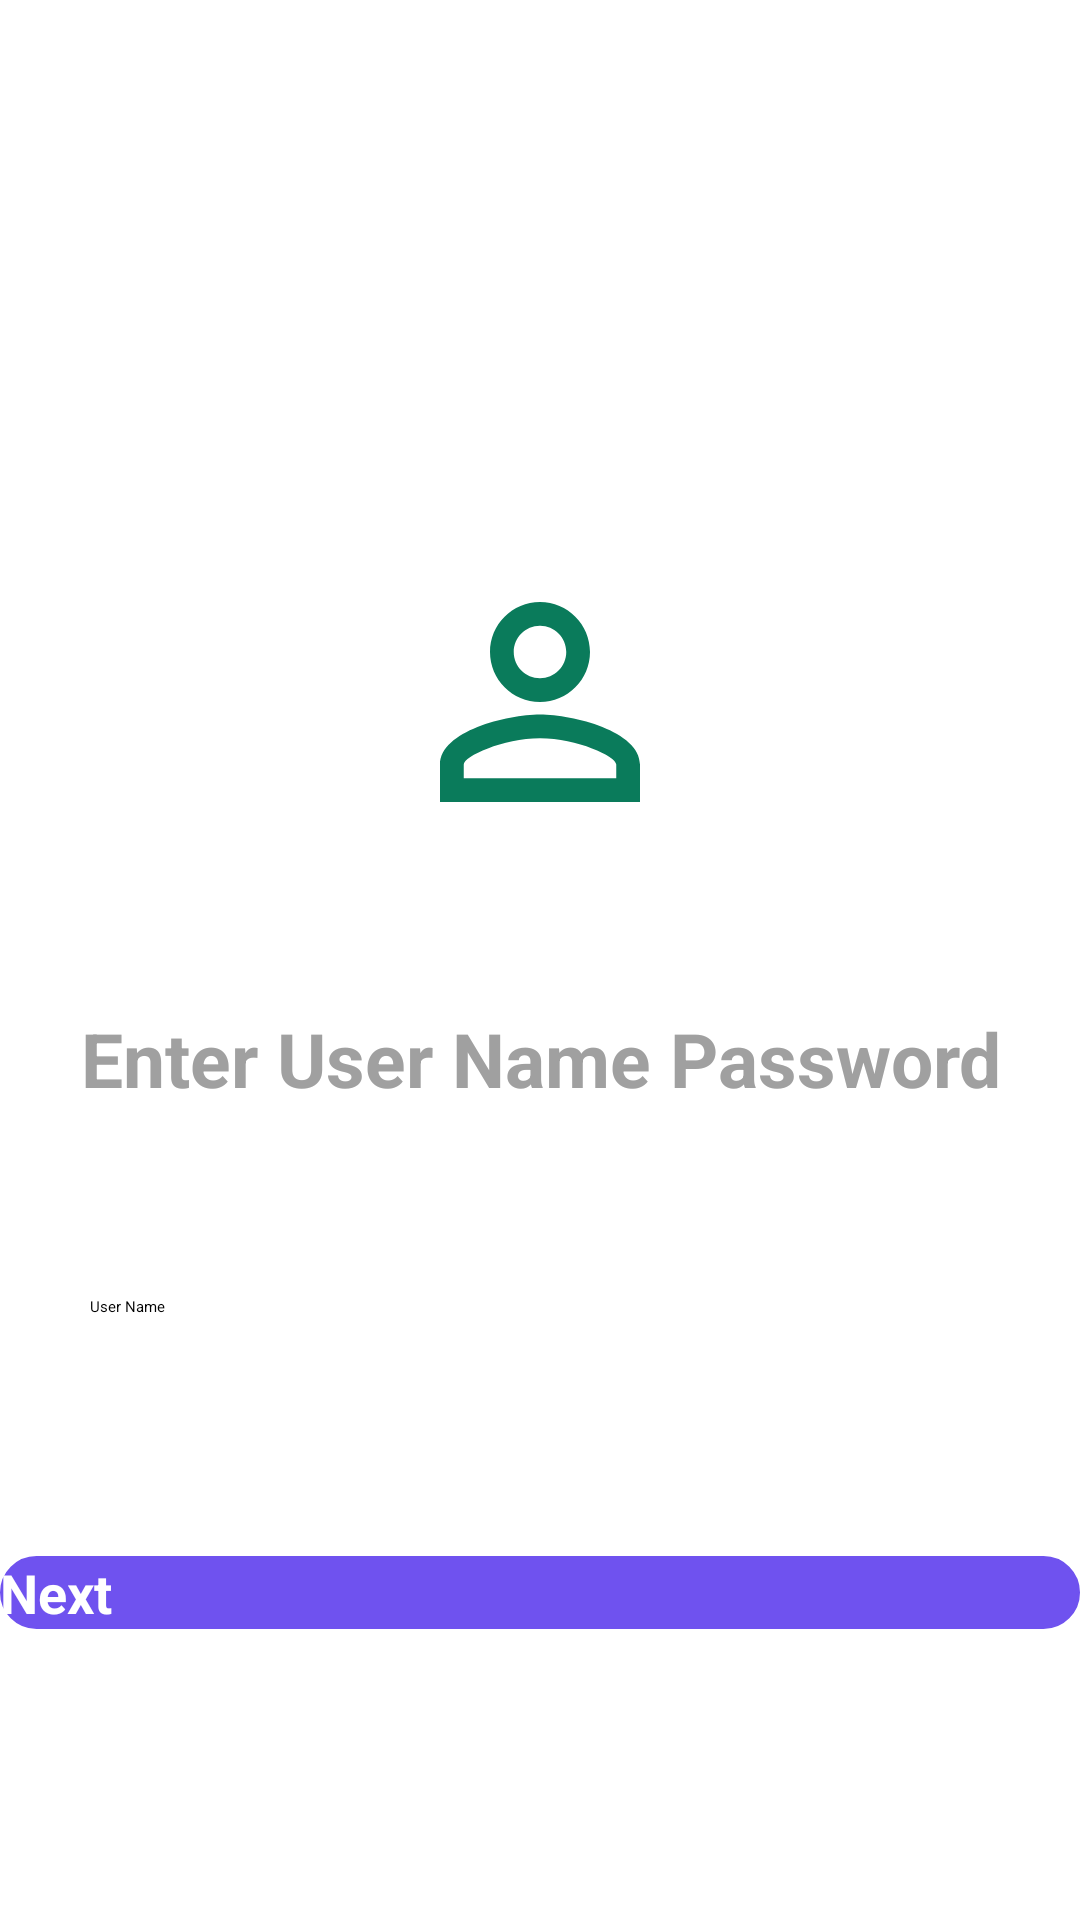

Where to tap for icons on this 1080px x 1920px app screen, as (x=x, y=y):
perm identity: (x=540, y=702)
